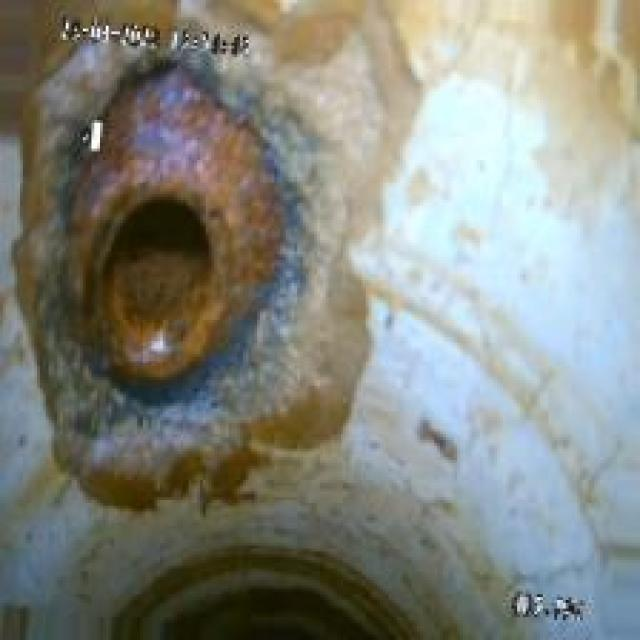ferrule: (43, 88, 314, 463)
